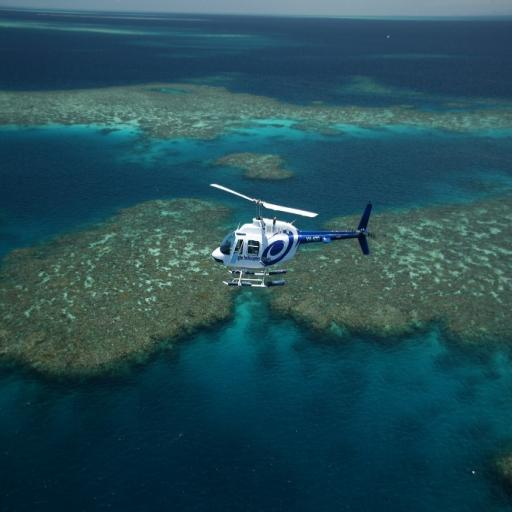helicopter: (208, 184, 374, 290)
